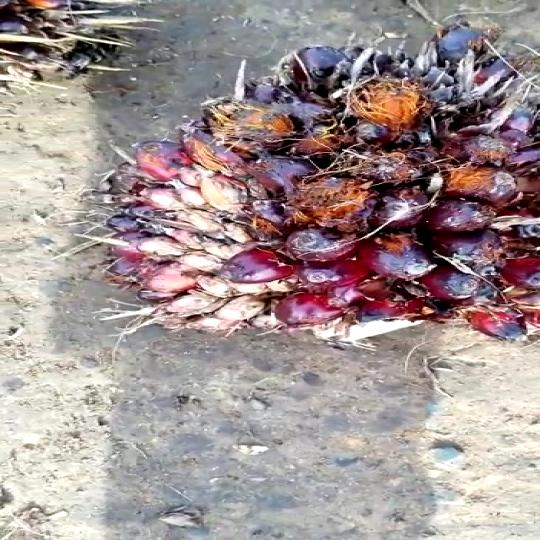masak: (105, 36, 540, 363)
